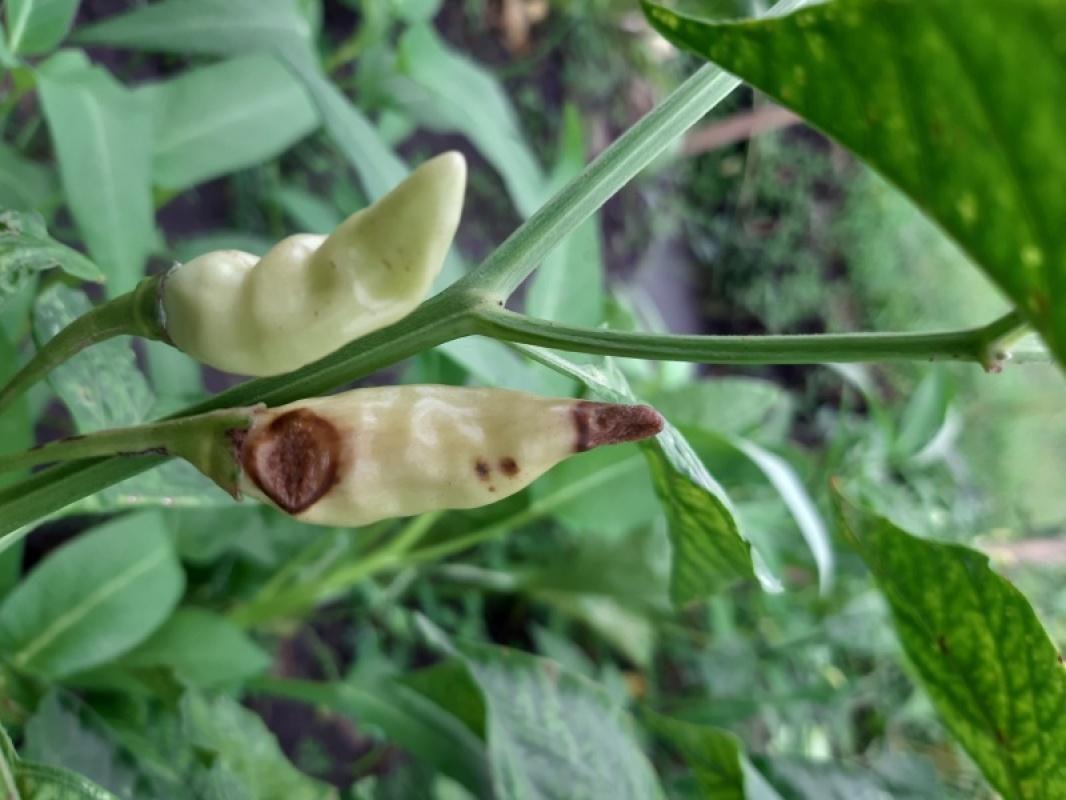antraknosa: (239, 384, 723, 522)
cabai_normal: (157, 148, 467, 378)
